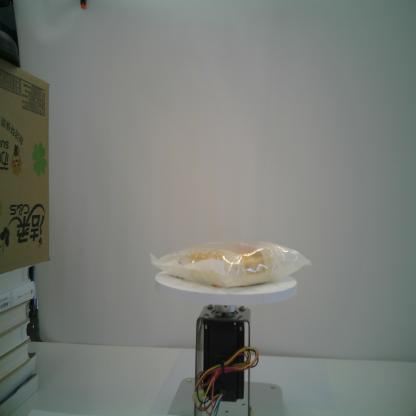Dessert: (150, 238, 313, 292)
